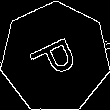P_NE: (26, 31, 85, 85)
